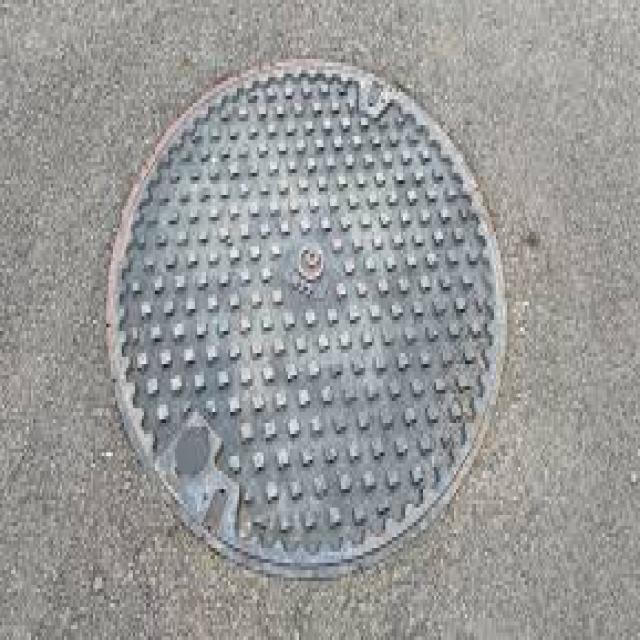manhole: (108, 59, 507, 575)
